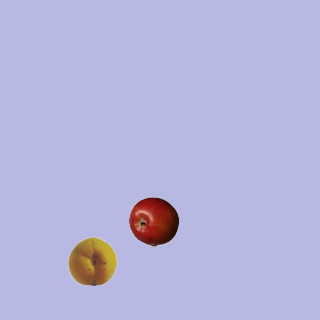Apple Braeburn: (128, 196, 178, 246)
Peach 2: (67, 235, 117, 285)
